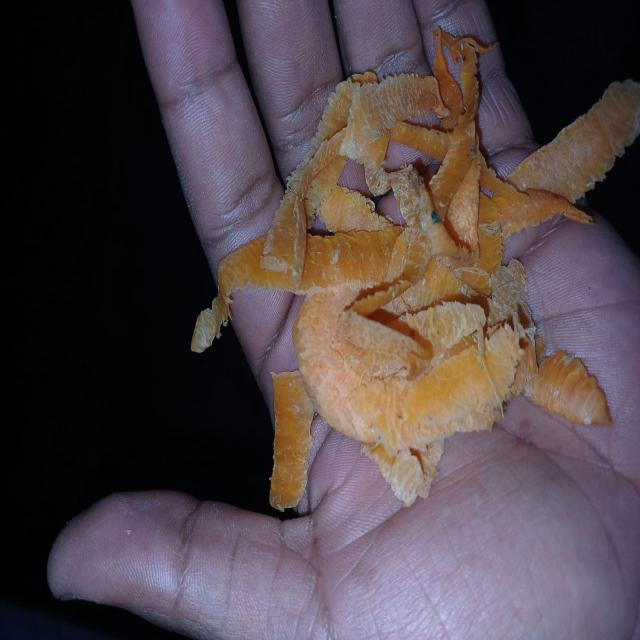organic: (192, 28, 640, 508)
